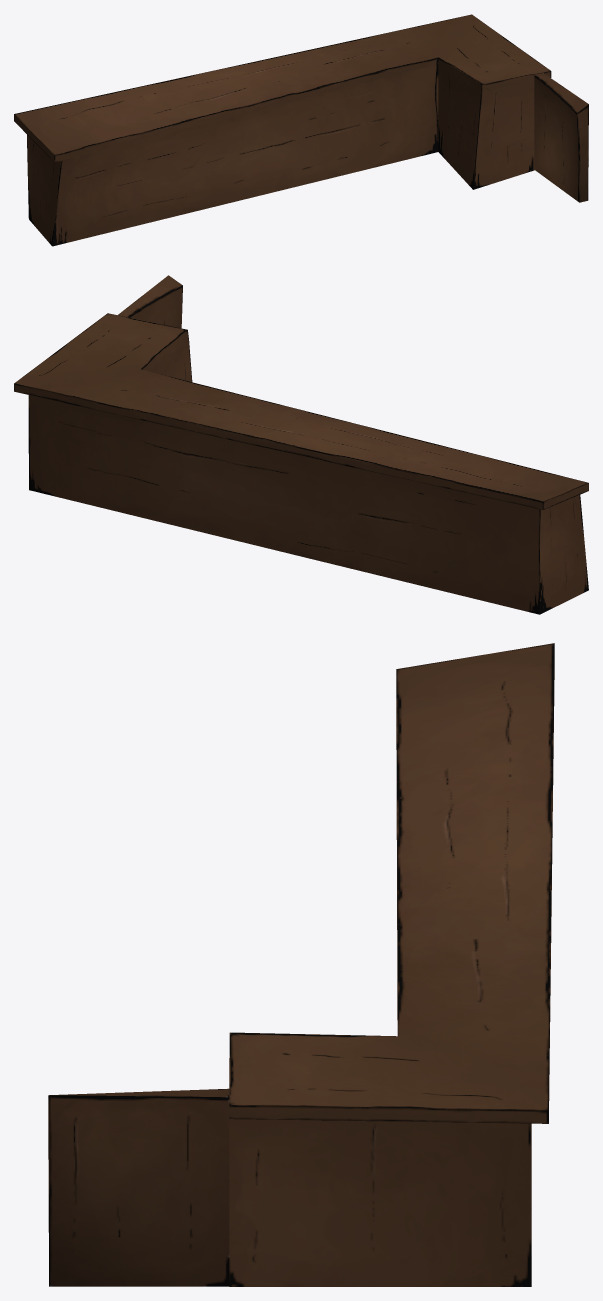
File: Bar.fbx
3 renders of one model, top to bottom at view 1: azimuth 30°, elevation 25°; view 2: azimuth 150°, elevation 25°; view 3: azimuth 270°, elevation 25°, orthographic. The views are drawn at different scales.
Parts seen in each view (by area): view 1: Bar; view 2: Bar; view 3: Bar.
Part boxes in pixels (x1,y1,x2,y2): Bar: [14, 14, 588, 246]; Bar: [14, 275, 588, 614]; Bar: [48, 643, 554, 1286].
Size of the model in its own units: 437 by 99.56 by 210.
1 material, 1 textured.
